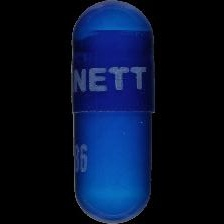63187-196: (0, 0, 224, 224)
